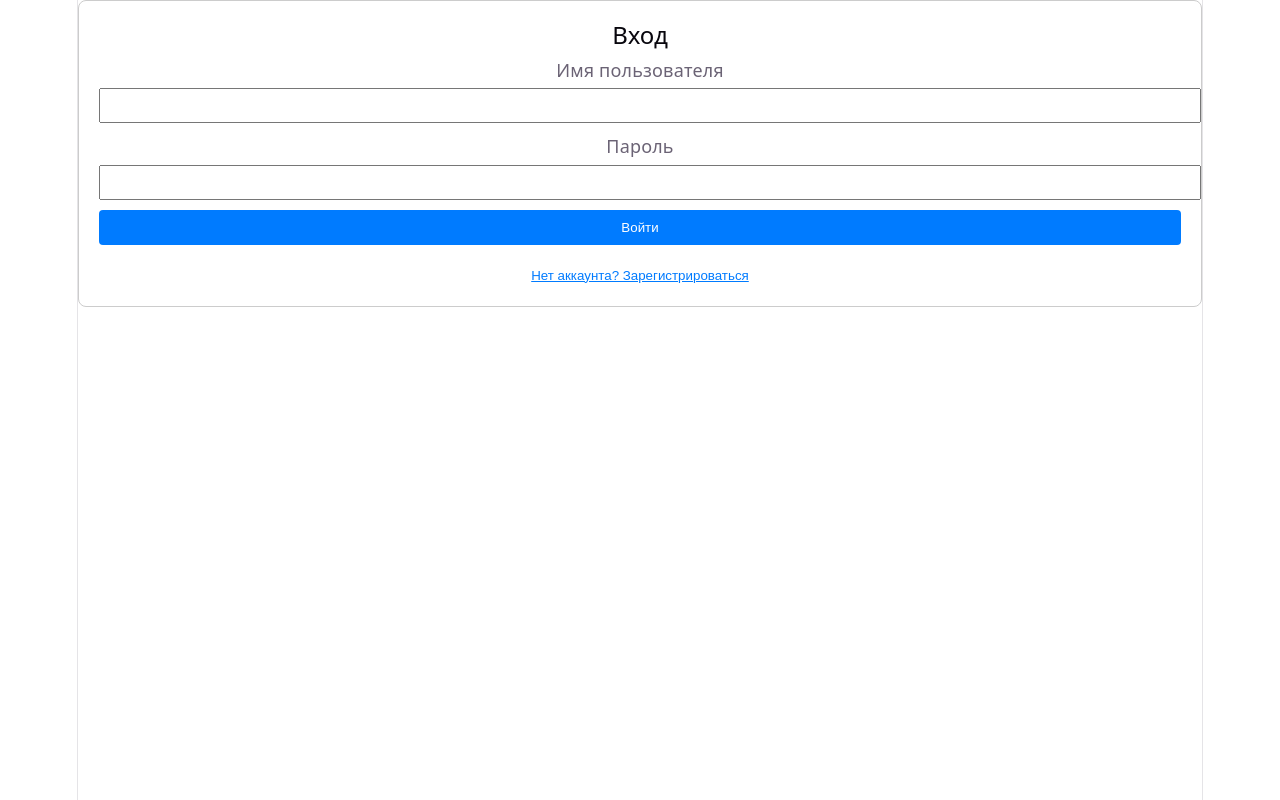
Scenario: Auth Component › shows error message on API failure
This screenshot has width=1280, height=800.
Step 1. Type "testuser" into the field with test id "username-input" → (650, 106), box [99, 88, 1201, 123]
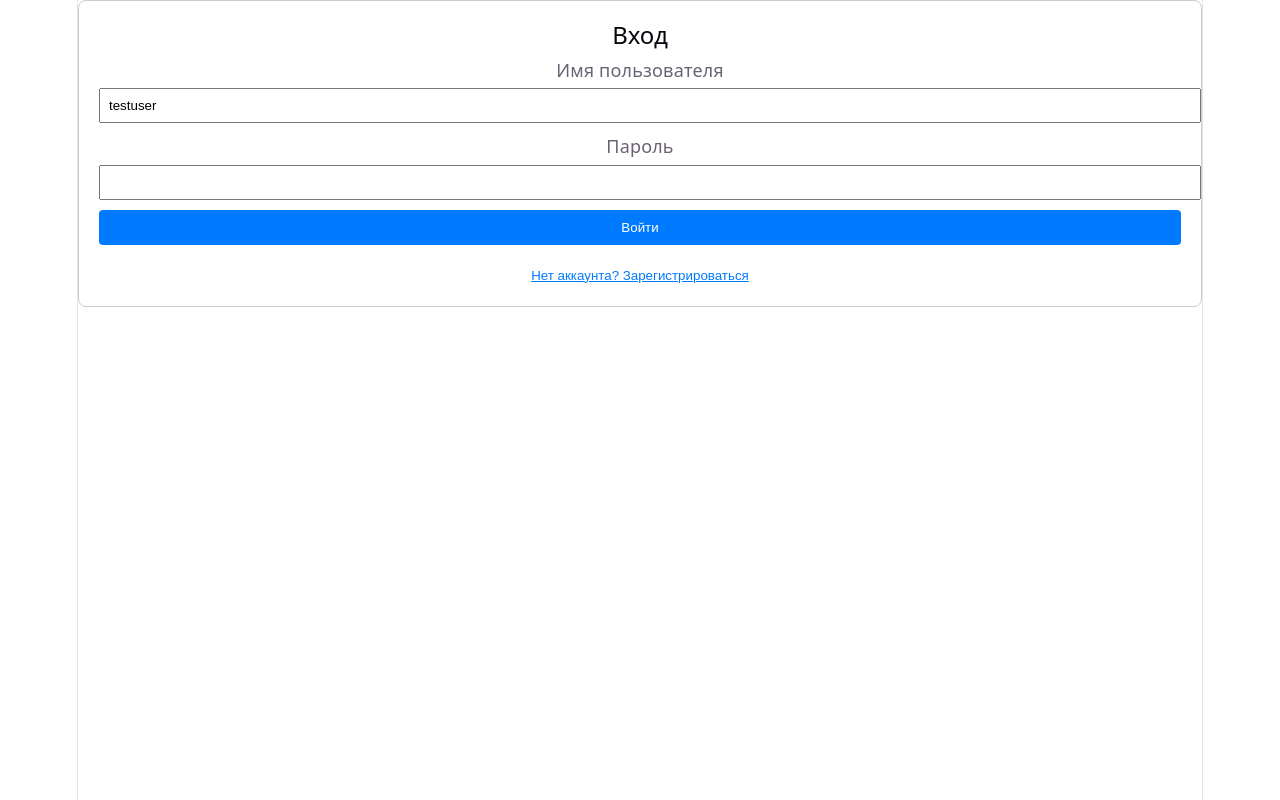
Step 2. Type "password123" into the password field with test id "password-input" → (650, 182), box [99, 164, 1201, 200]
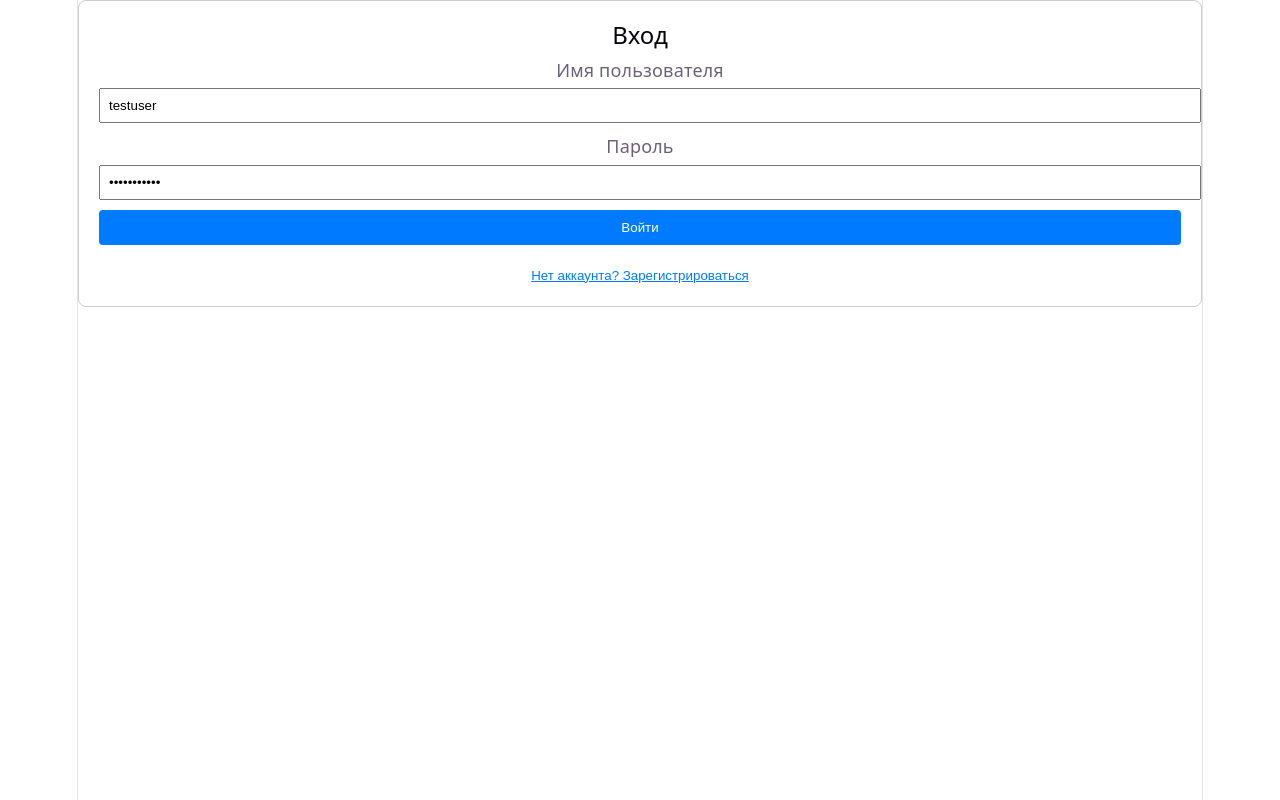
Step 3. Click the button with test id "submit-button" → (640, 227), box [99, 210, 1181, 244]
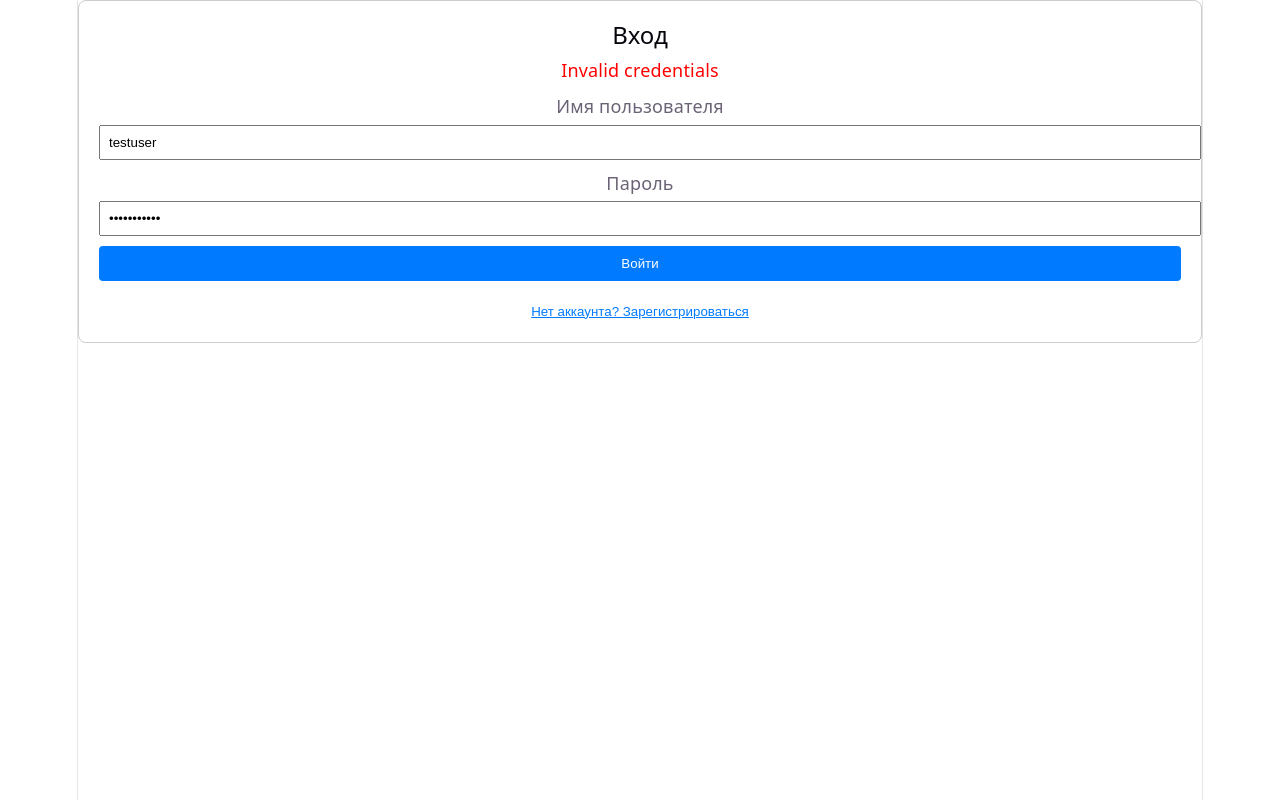
Check: the text "Invalid credentials" is shown, box [561, 58, 719, 82]
